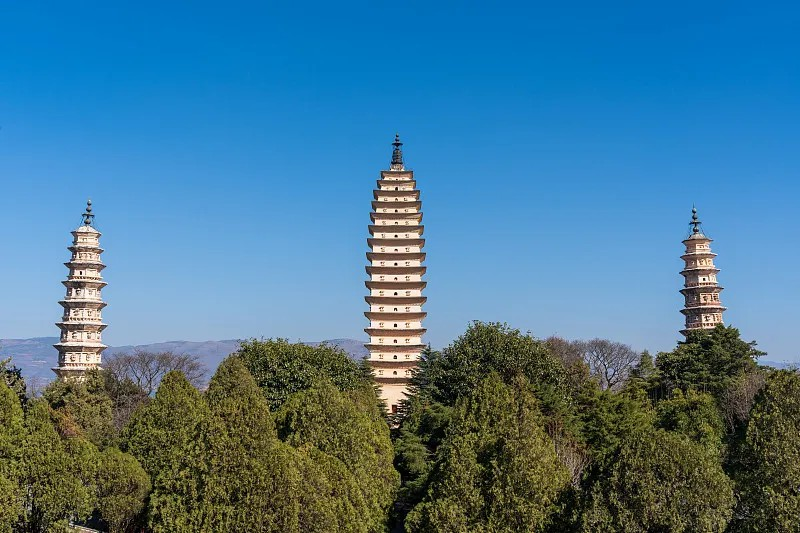ThreePagoda: (363, 134, 427, 413)
